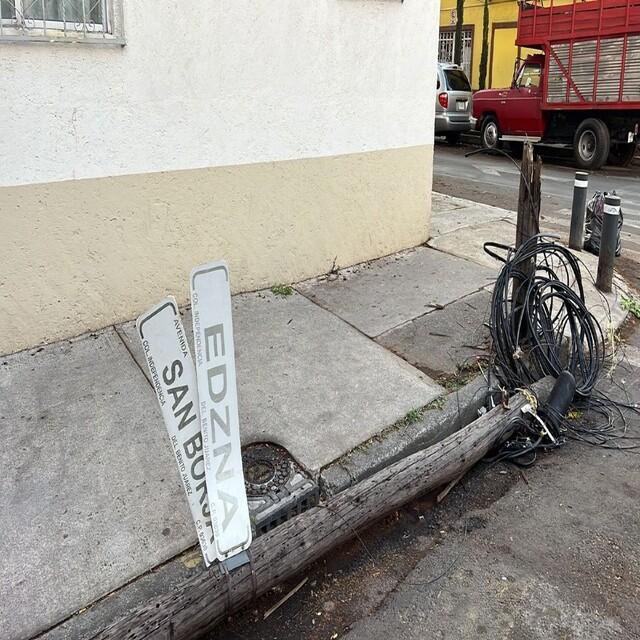Inclined Pole: (69, 220, 615, 640)
